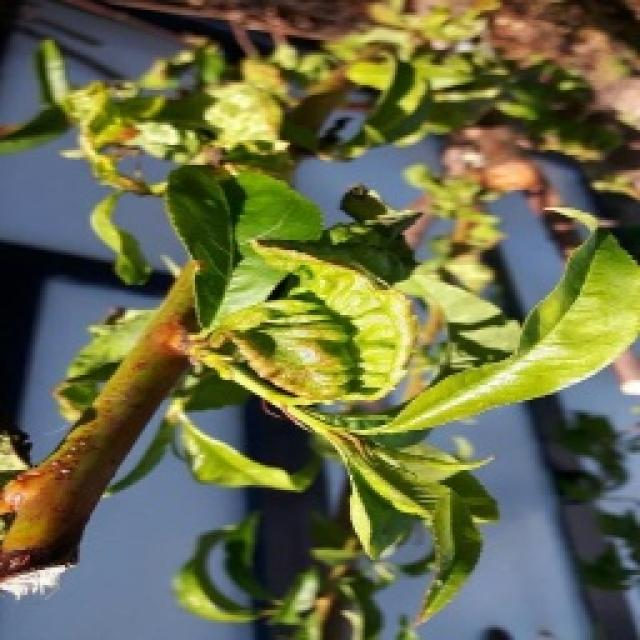peach_leaf_curl: (205, 0, 518, 433)
